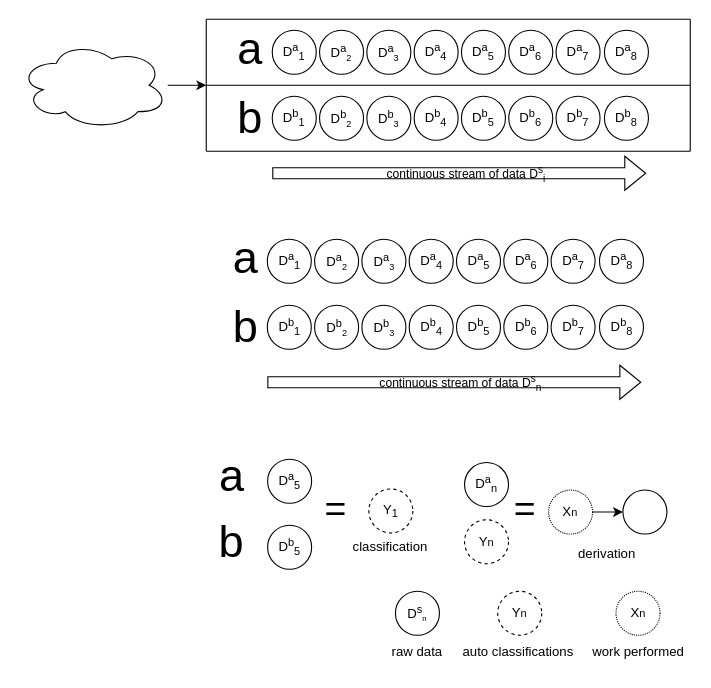
This 711x688 diagram has some shape labels left out. Each missing label, with the centre of its shape:
"D b n" belongs at point (644, 511).
"Environment" belongs at point (93, 84).
